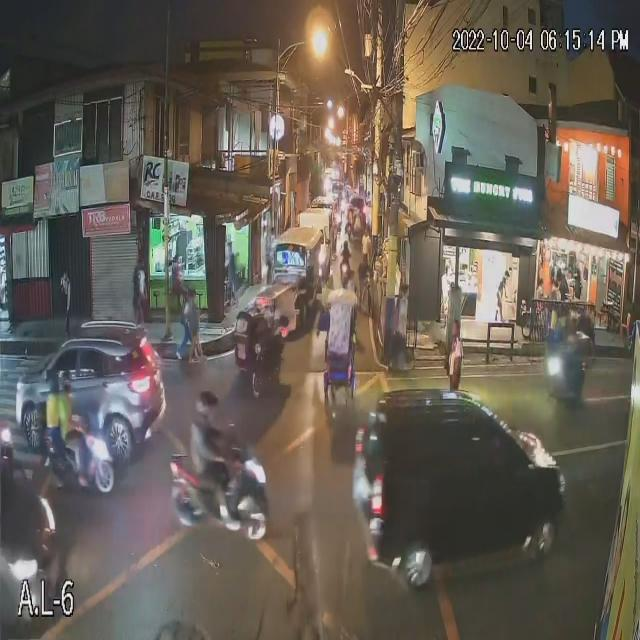helmet: (194, 393, 218, 412)
motorcycle: (171, 460, 267, 537), (46, 436, 122, 490), (540, 354, 593, 398), (340, 263, 358, 287)
rider: (192, 423, 220, 491), (61, 396, 73, 444), (47, 397, 56, 456)
